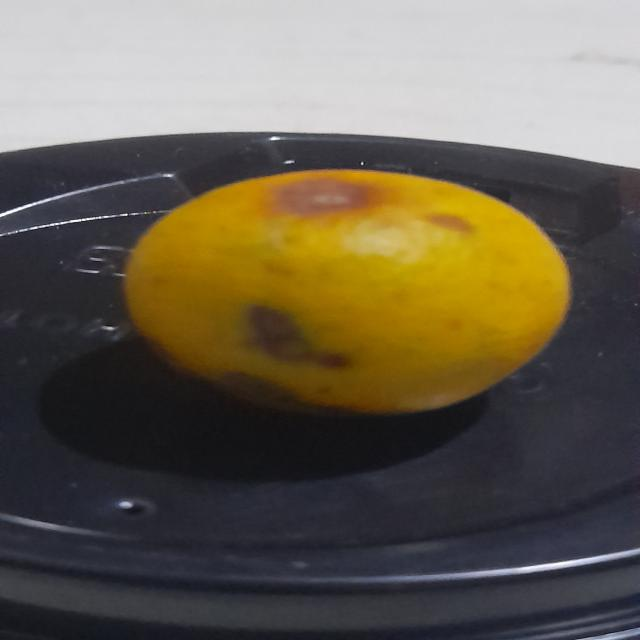black spot: (120, 166, 570, 422)
